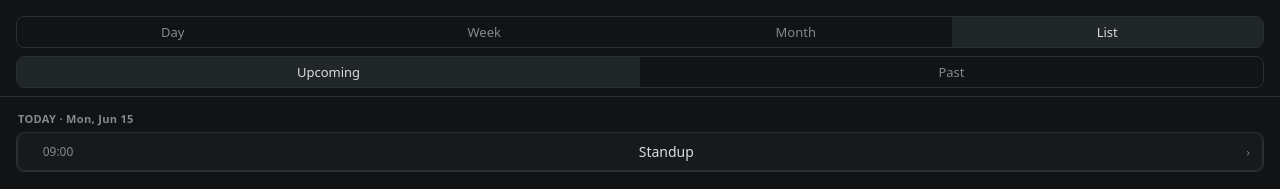
Scenario: CalendarPage — list view › switches to the Past tab and reads history
Check: the text "Standup" is shown, box x1=639 y1=142 x2=694 y2=161
Click the button "Past": (952, 72) x1=640 y1=57 x2=1263 y2=87
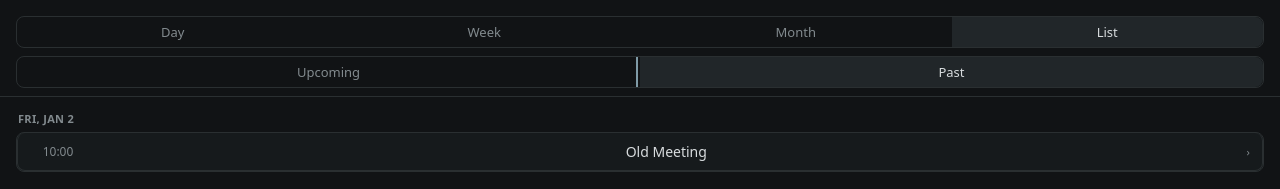
Check: the text "Old Meeting" is shown, box x1=626 y1=142 x2=707 y2=161
